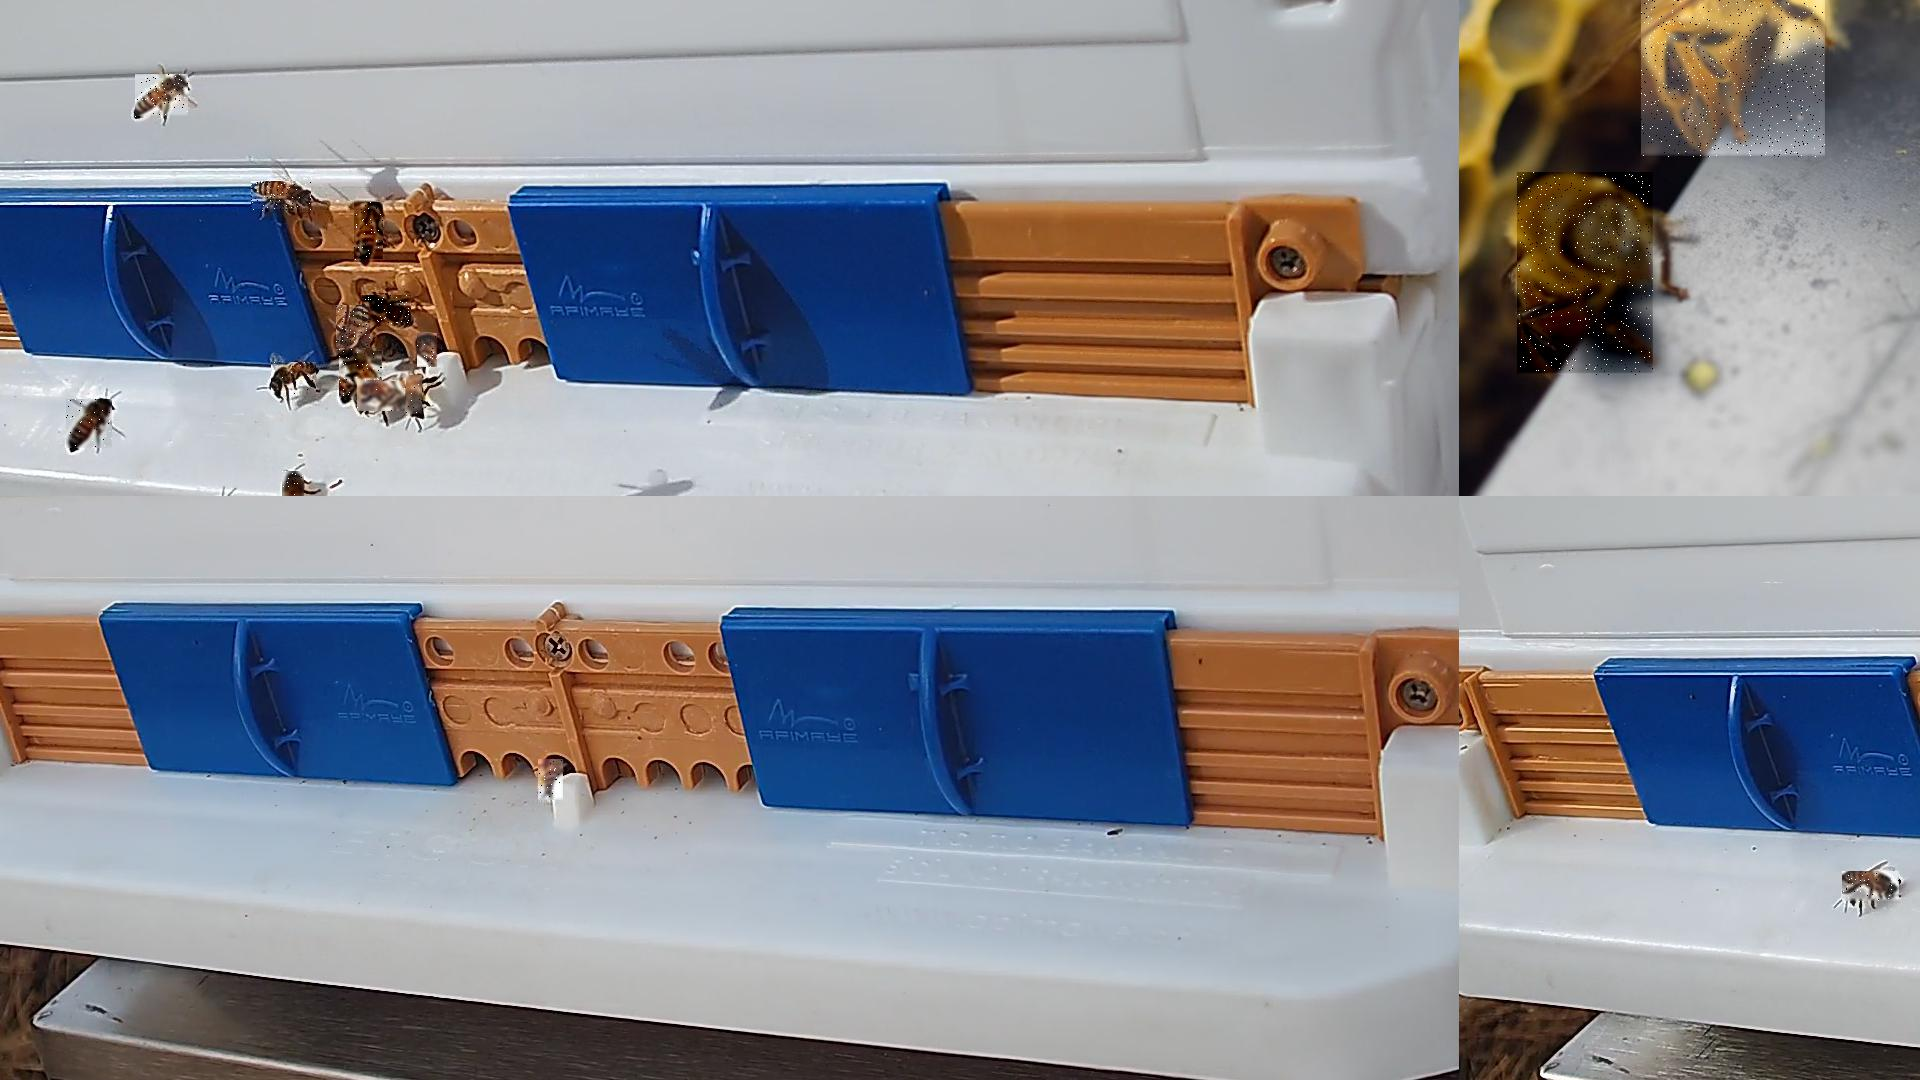bee: (1640, 0, 1826, 160), (1518, 173, 1655, 377), (66, 400, 113, 451), (339, 352, 384, 401), (251, 182, 313, 212), (1842, 872, 1900, 903), (353, 203, 384, 262), (336, 306, 371, 353), (357, 381, 406, 413), (272, 363, 318, 396), (363, 295, 413, 326), (538, 760, 564, 803), (417, 334, 438, 368), (406, 376, 423, 417), (282, 471, 306, 495)
pollenbee: (135, 75, 189, 119)
